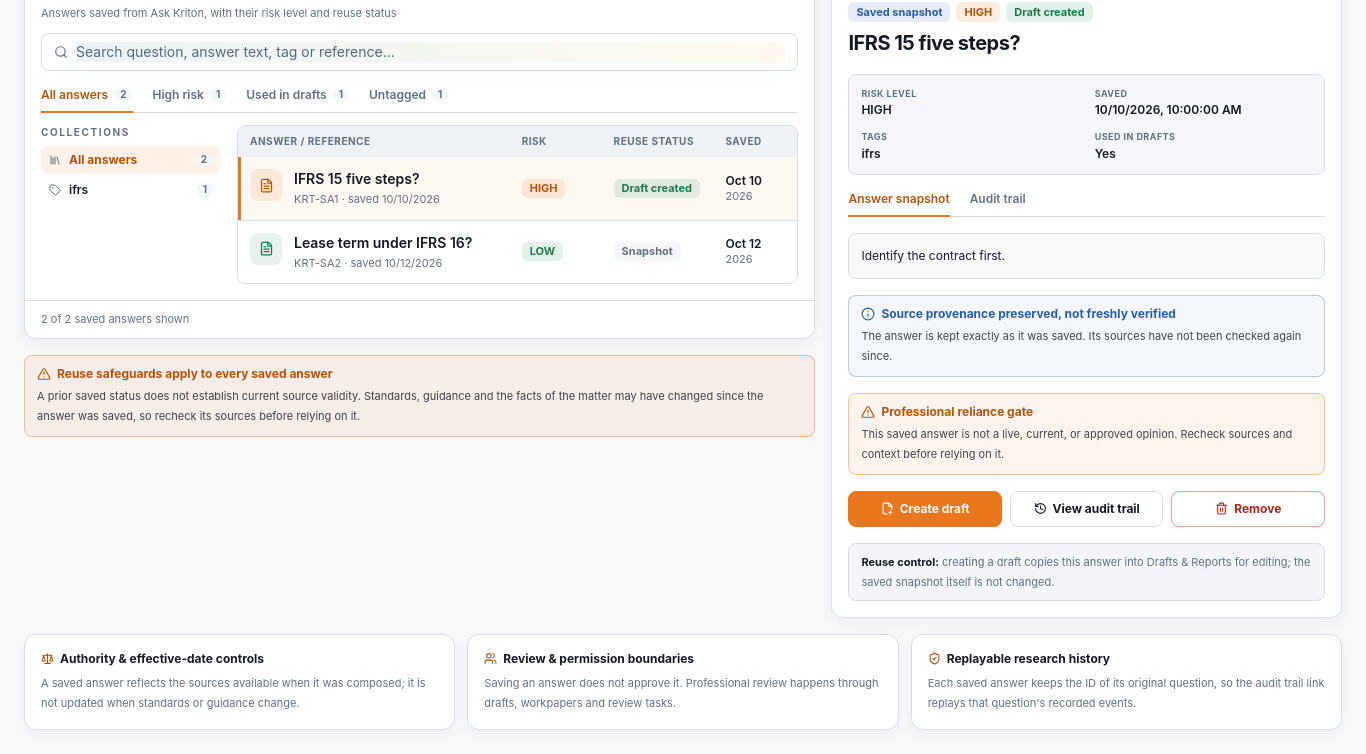
Test case: Saved Answers › removes the selected answer
(page scrolled)
expect the text "Lease term under IFRS 16?" is shown: met, box [294,232,472,252]
Click the button "Remove" at (1248, 508), box [1172,490,1325,526]
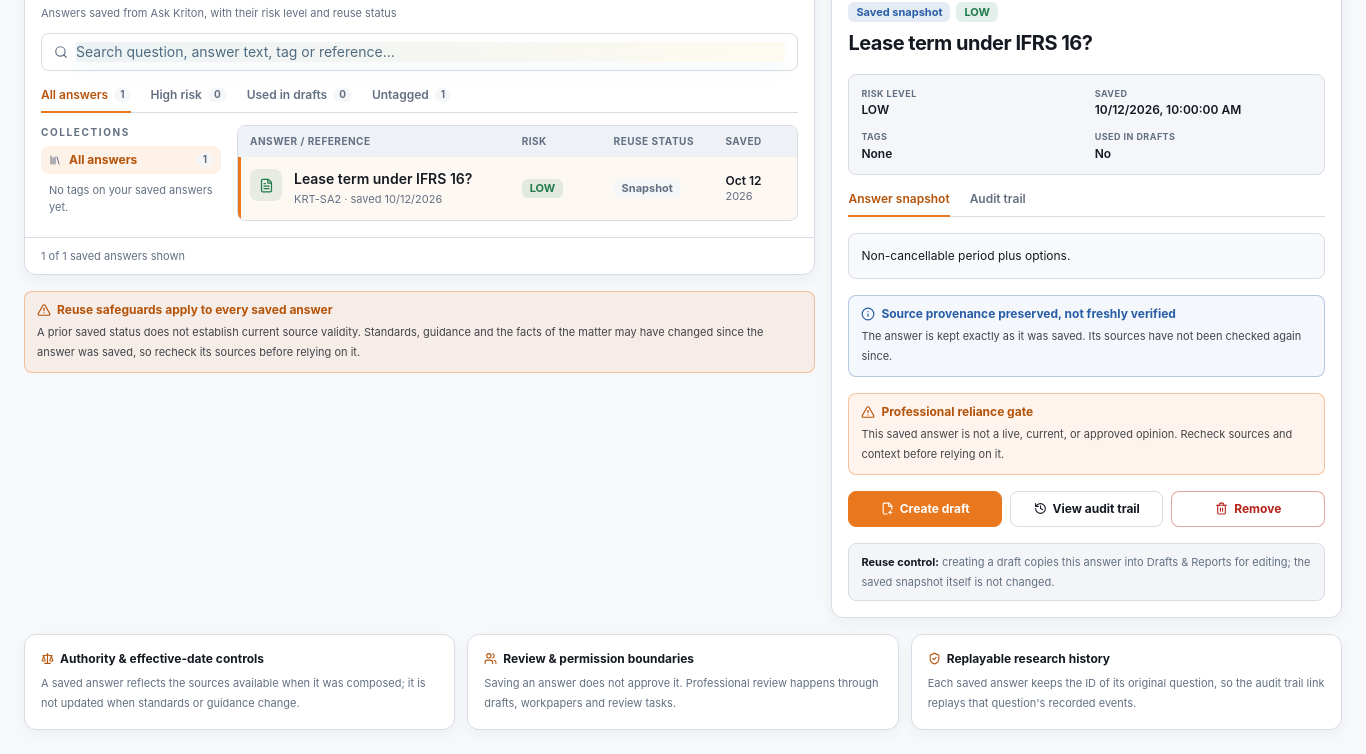
expect the text "1 of 1 saved answers shown" is shown: met, box [41,248,185,264]
